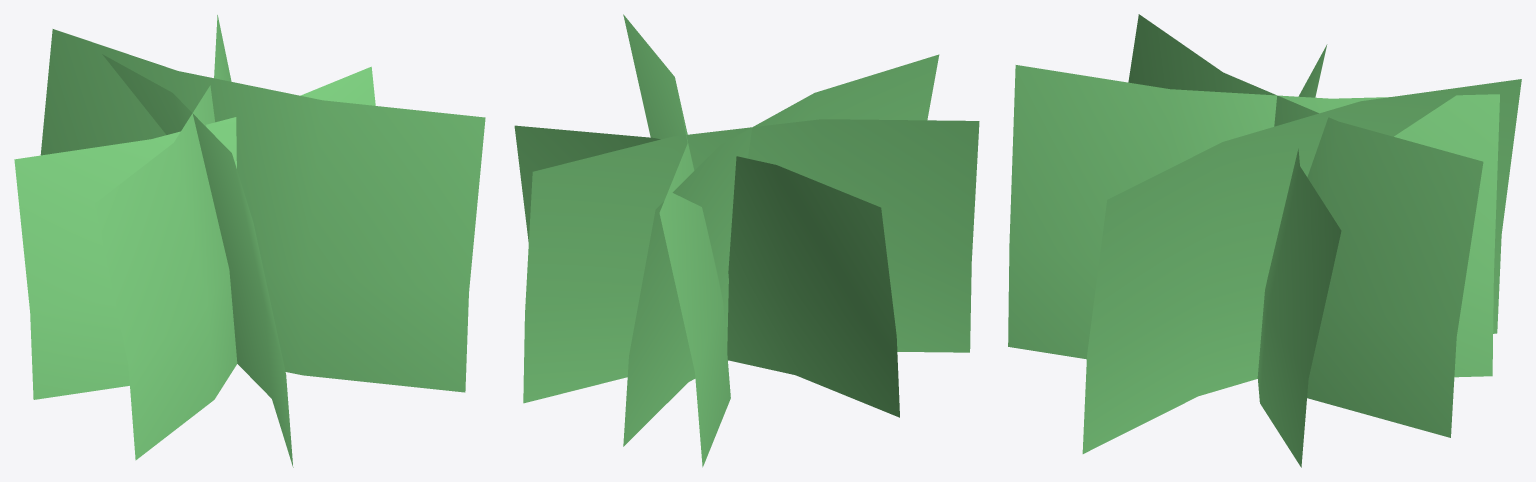
The model's file is GrassPlanes_a_TwoS_11.fbx.
3 views of the same model, side by side, from view 1: azimuth 30°, elevation 25°; view 2: azimuth 150°, elevation 25°; view 3: azimuth 270°, elevation 25° (orthographic). The views are drawn at different scales.
Parts seen in each view (by area): view 1: GrassPlanes_a_TwoS_11; view 2: GrassPlanes_a_TwoS_11; view 3: GrassPlanes_a_TwoS_11.
Part boxes in pixels (x1,y1,x2,y2): GrassPlanes_a_TwoS_11: (14,15,485,467); GrassPlanes_a_TwoS_11: (514,14,979,467); GrassPlanes_a_TwoS_11: (1008,14,1521,467).
Size of the model in its own units: 77.1 by 51.41 by 87.28.
